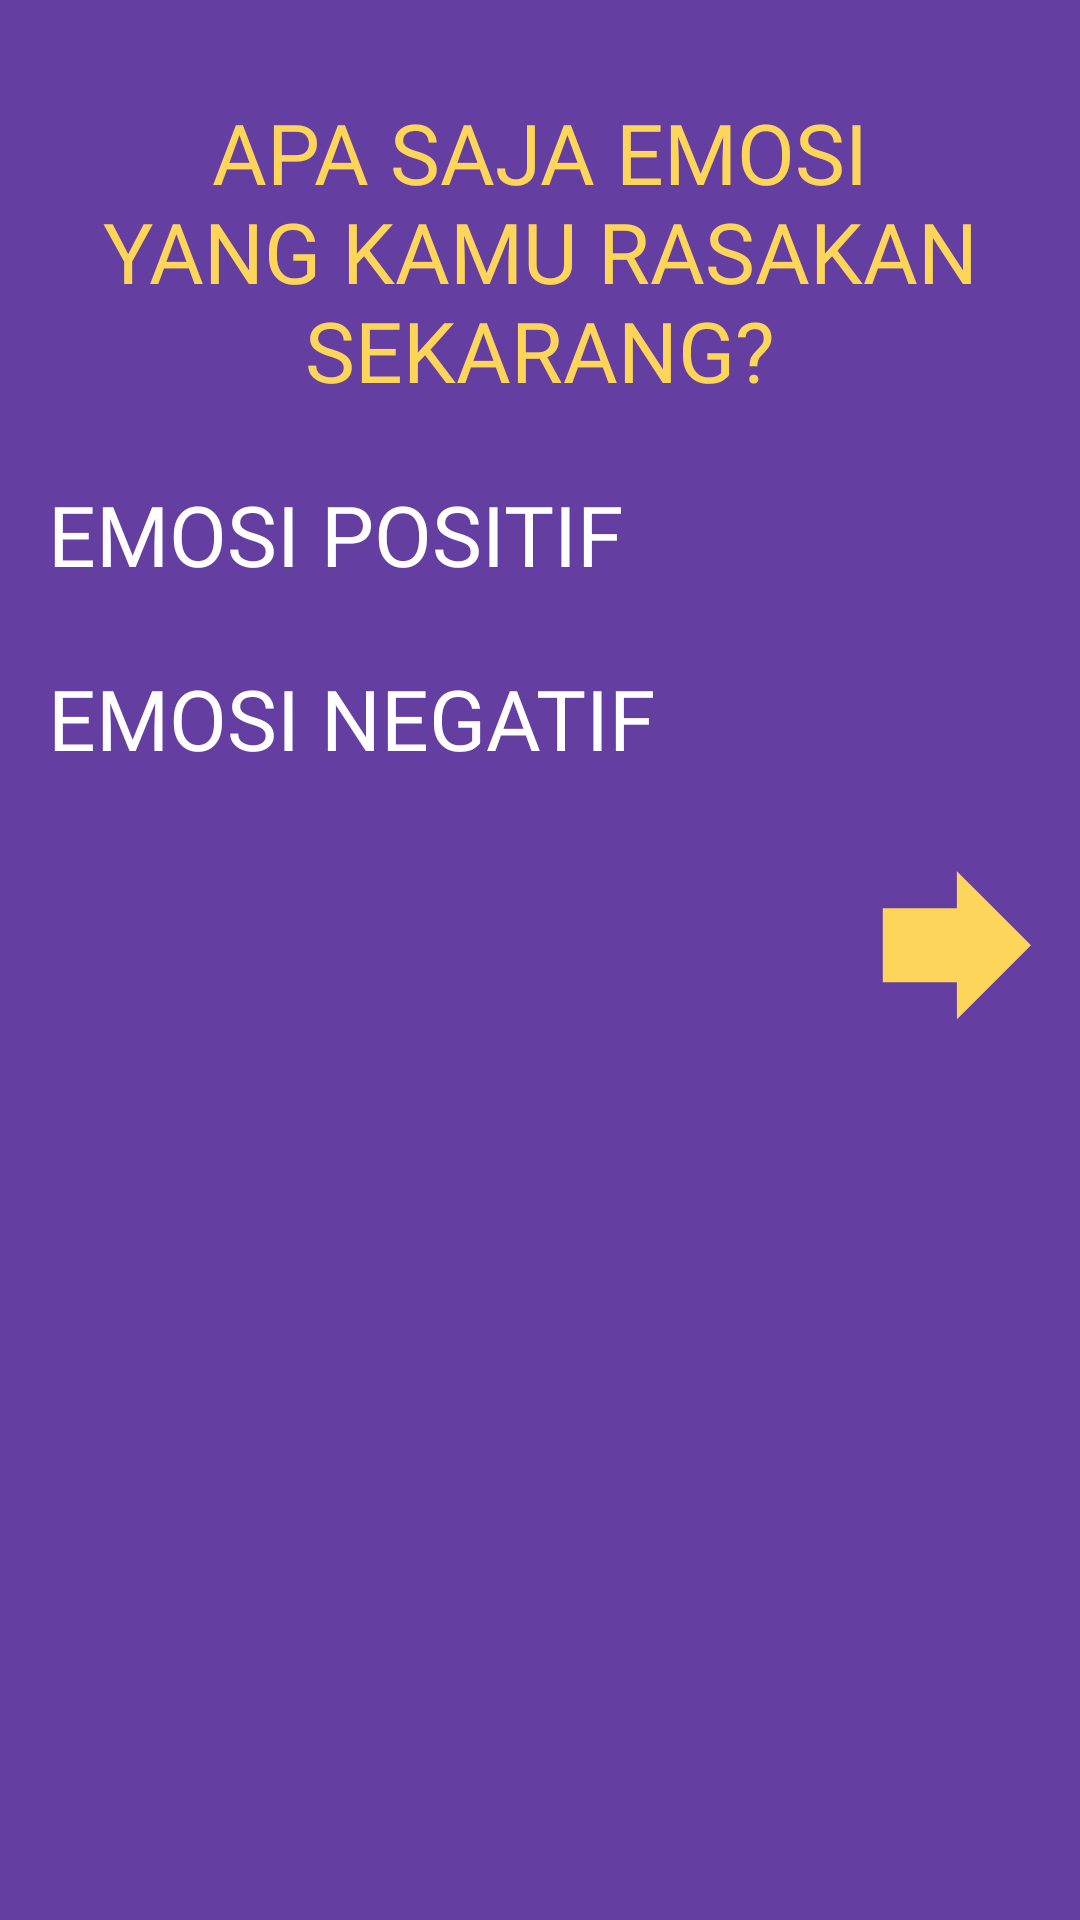

Point at icon controls on the screen. Image size 1080×1920, points as [x,y].
Icon halaman selanjutnya: [956,945]
